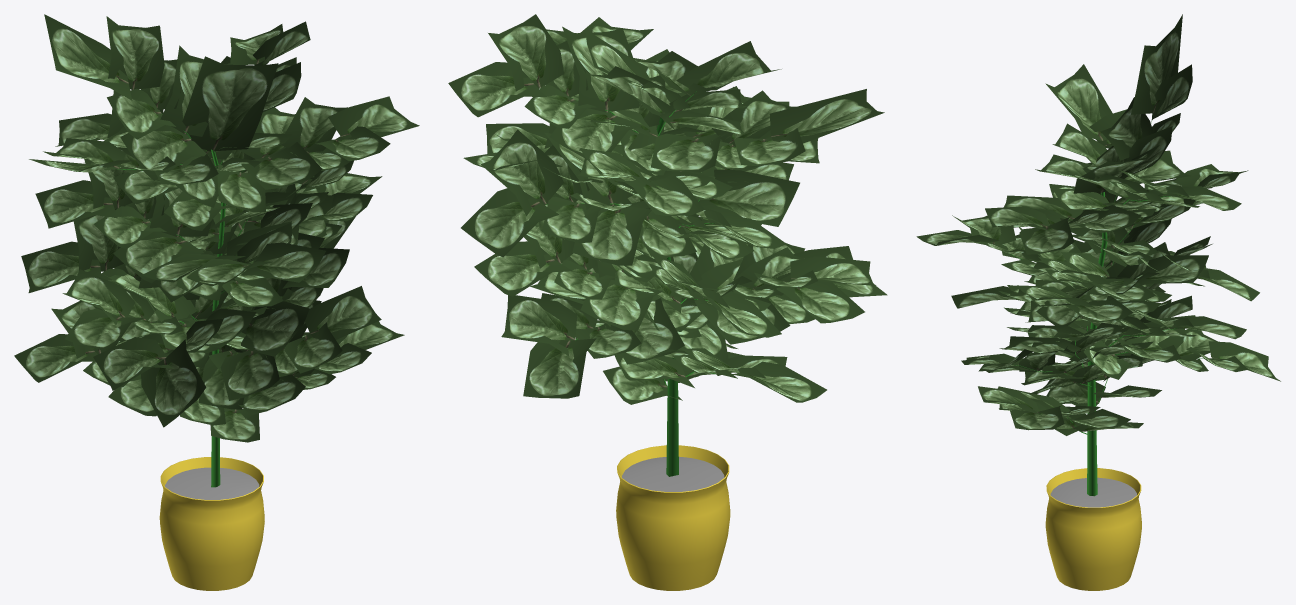
Rendered from Unity Plants03.FBX.
3 renders of one model, left to right at view 1: azimuth 30°, elevation 25°; view 2: azimuth 150°, elevation 25°; view 3: azimuth 270°, elevation 25°, orthographic. The views are drawn at different scales.
Visible parts, largest first — view 1: Unity_Plant_03, Unity_Plant_03_Pot; view 2: Unity_Plant_03, Unity_Plant_03_Pot; view 3: Unity_Plant_03, Unity_Plant_03_Pot.
Boxes of the visible parts, x1=… form: Unity_Plant_03: x1=14, y1=14, x2=419, y2=487; Unity_Plant_03_Pot: x1=159, y1=457, x2=264, y2=590; Unity_Plant_03: x1=448, y1=14, x2=887, y2=476; Unity_Plant_03_Pot: x1=616, y1=445, x2=730, y2=590; Unity_Plant_03: x1=916, y1=14, x2=1280, y2=496; Unity_Plant_03_Pot: x1=1045, y1=468, x2=1141, y2=590.
Bounding box in the file's own units: 1.09 × 1.6 × 1.04.
